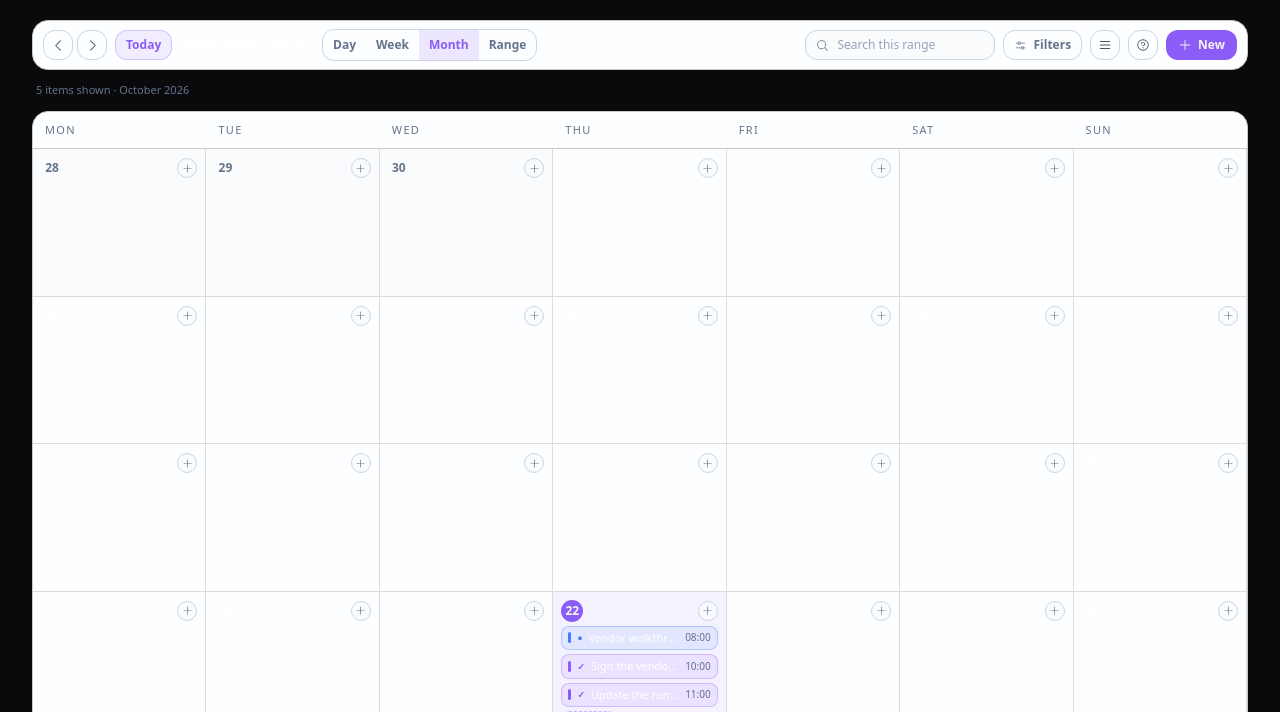
the page says what it is showing › names each hidden filter as something you can take off again
Click the button "Filters" at (1043, 45), box [1004,30,1082,60]
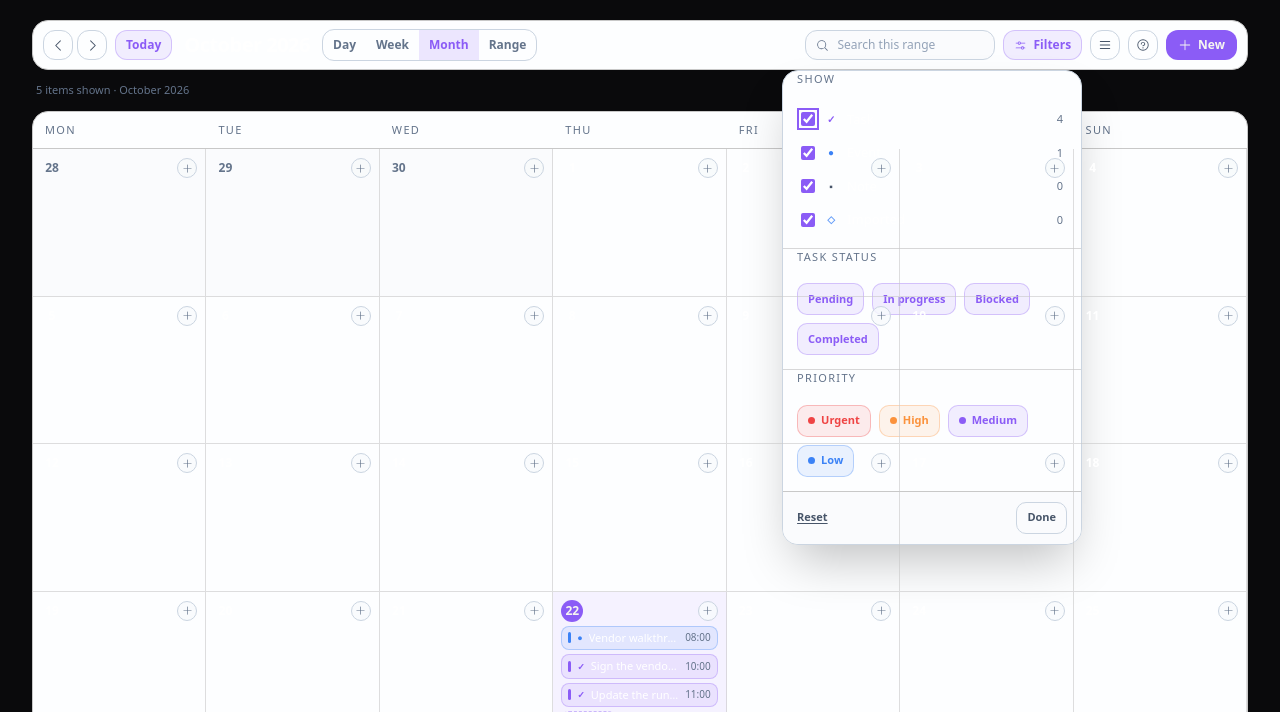
Click the checkbox labelled "✓ Task 4" at (808, 119), box [801,112,815,126]
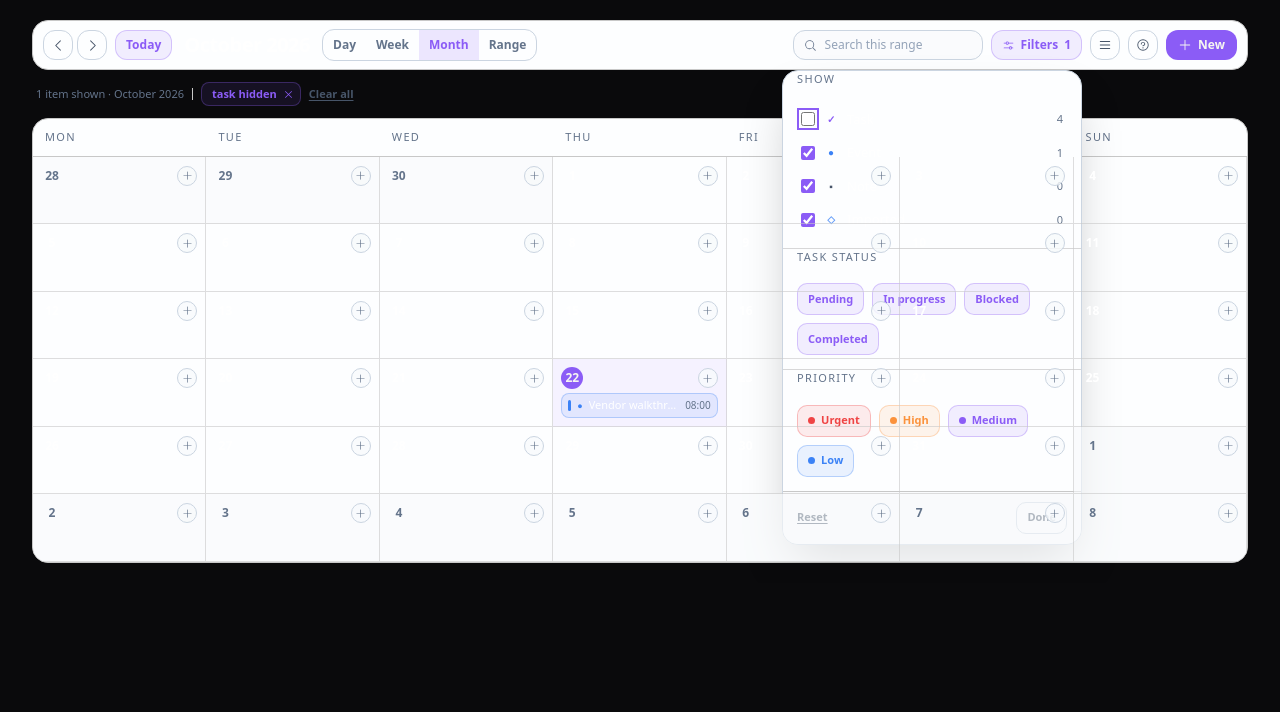
Press Escape
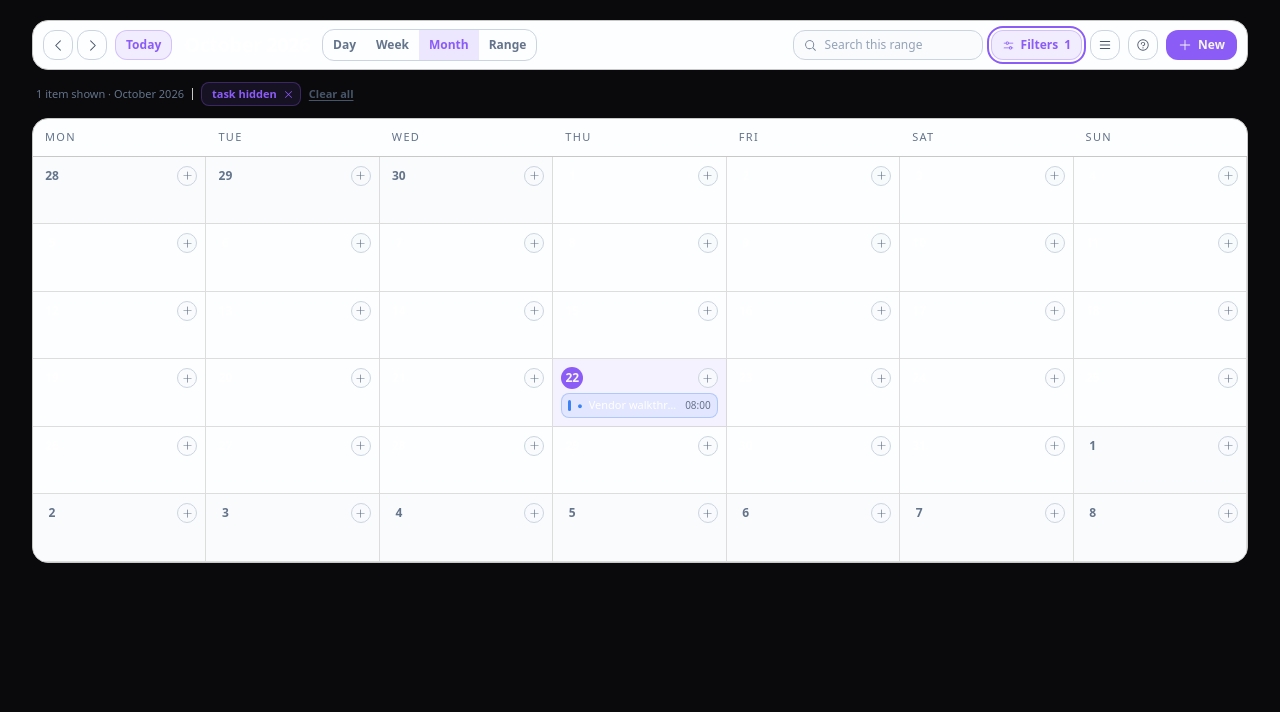
Now the button "task hidden" is shown
Note: And the token undoes itself.
Click the button "task hidden" at (251, 94), box [201,82,301,106]
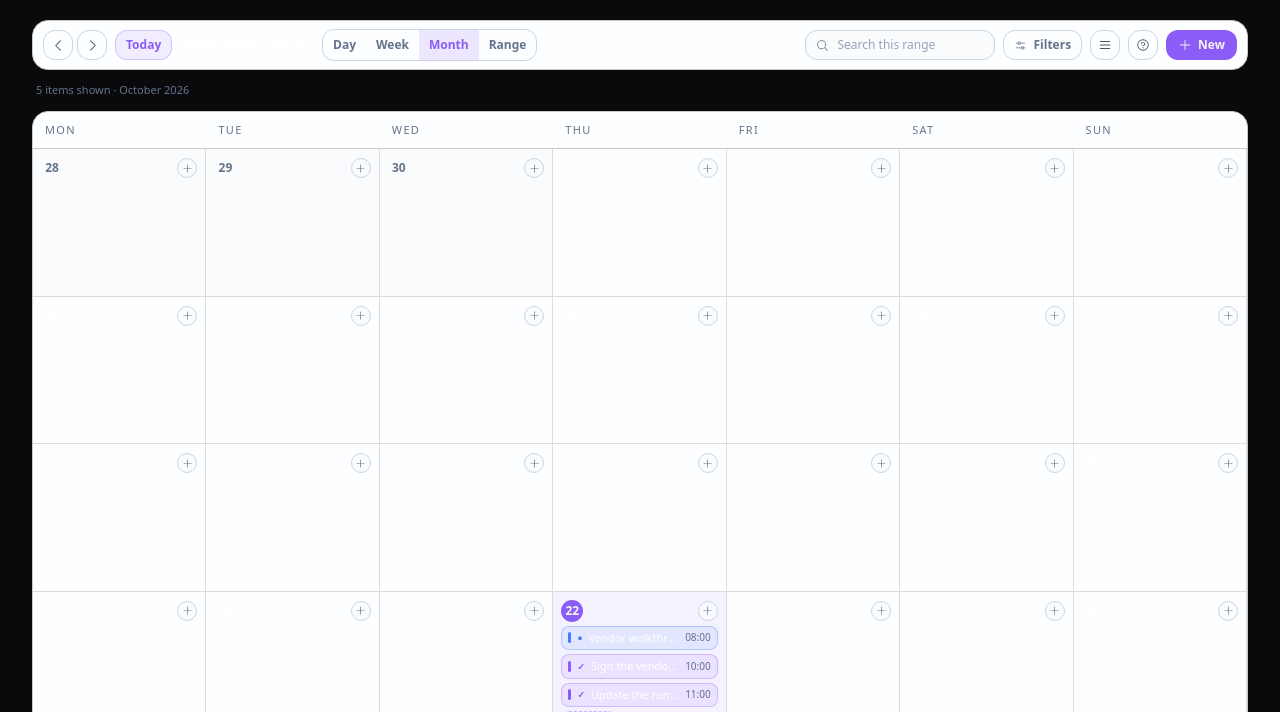
Now the button "task hidden" is gone
